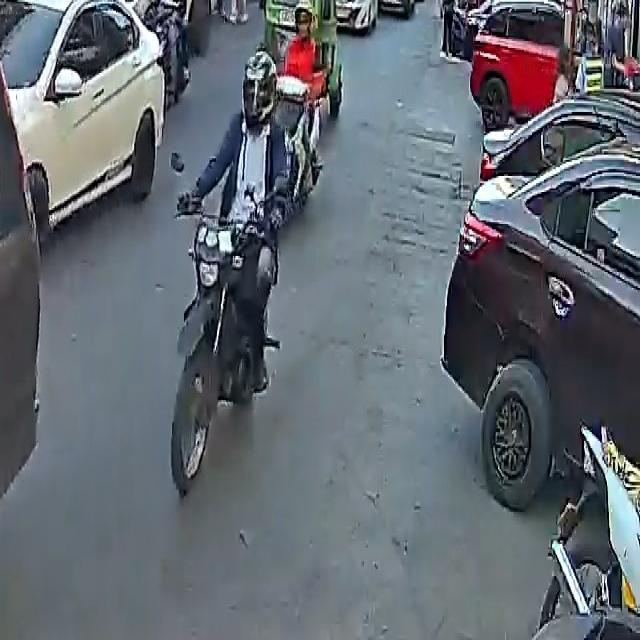car: (444, 83, 640, 526), (0, 0, 170, 244), (0, 0, 40, 638), (465, 0, 576, 128), (78, 0, 195, 53), (336, 0, 383, 32), (368, 0, 416, 12)
